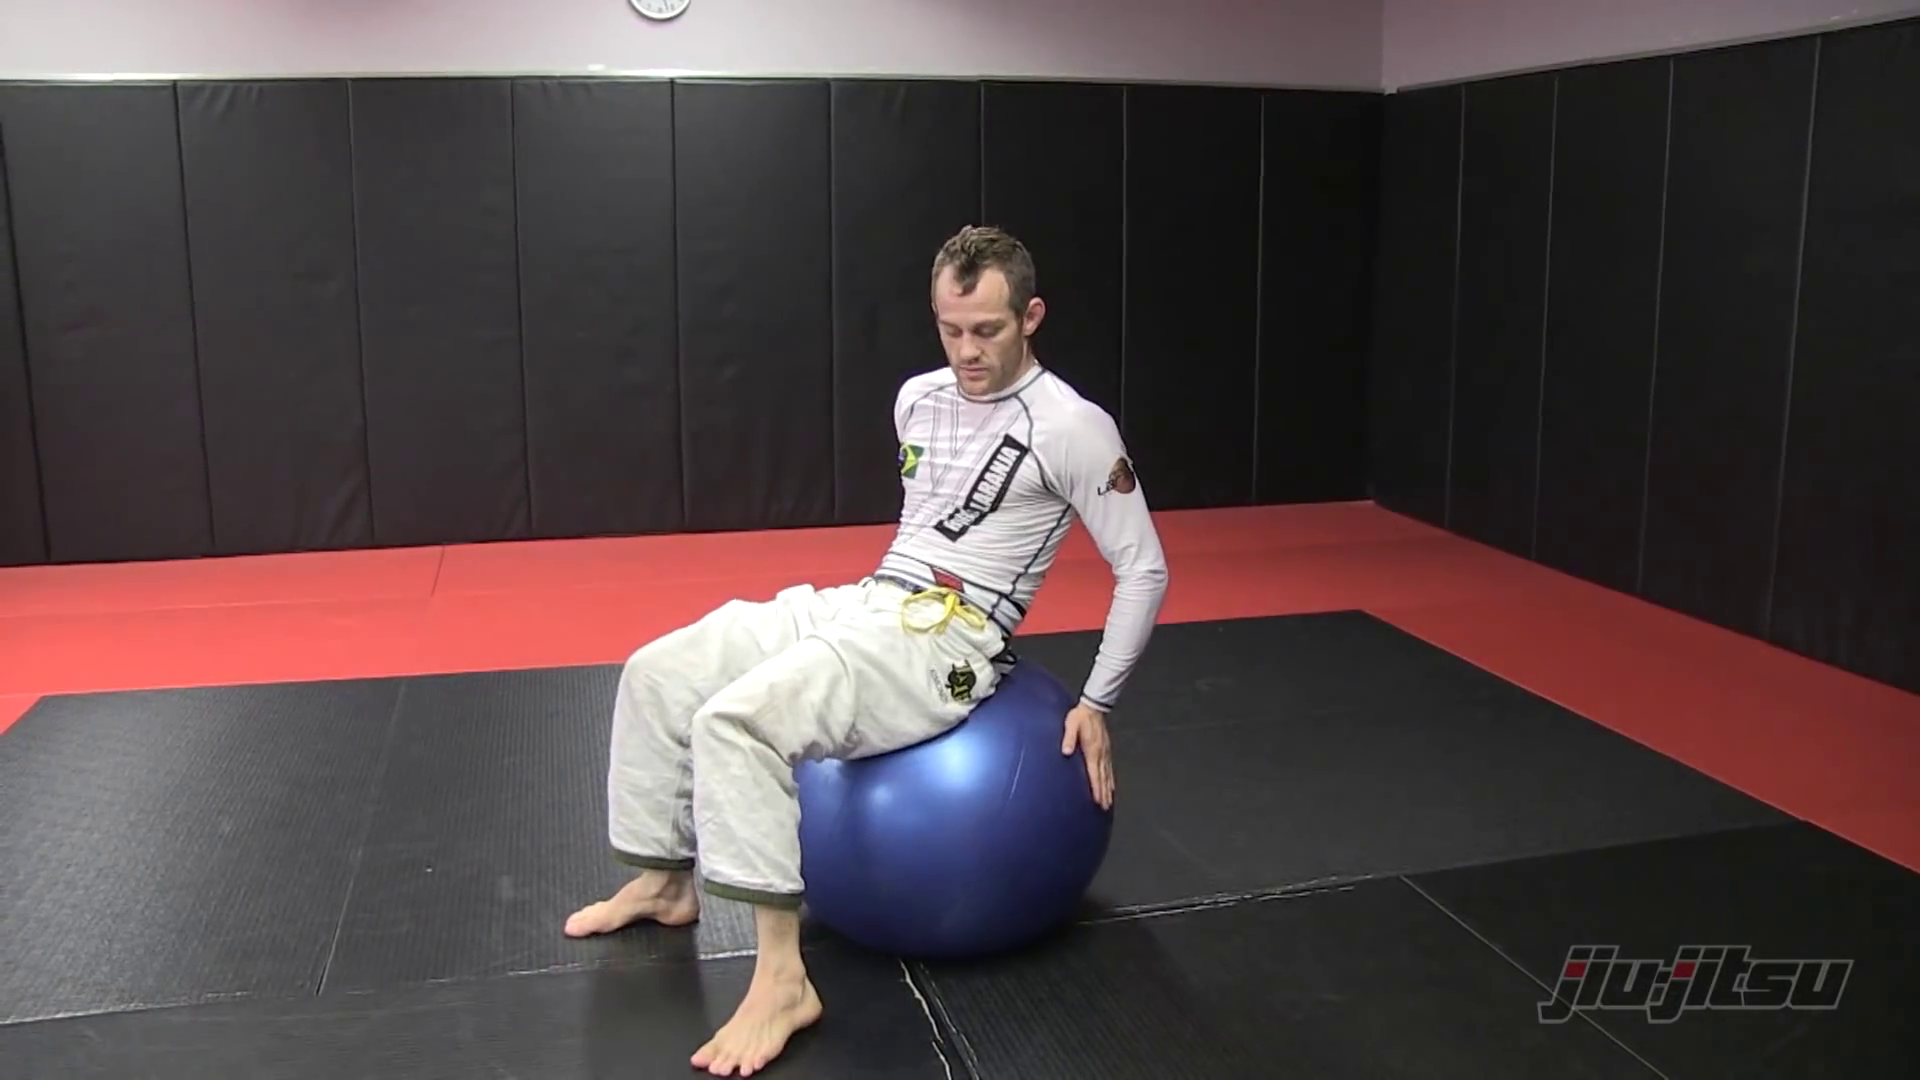yogaball: (749, 630, 1146, 973)
